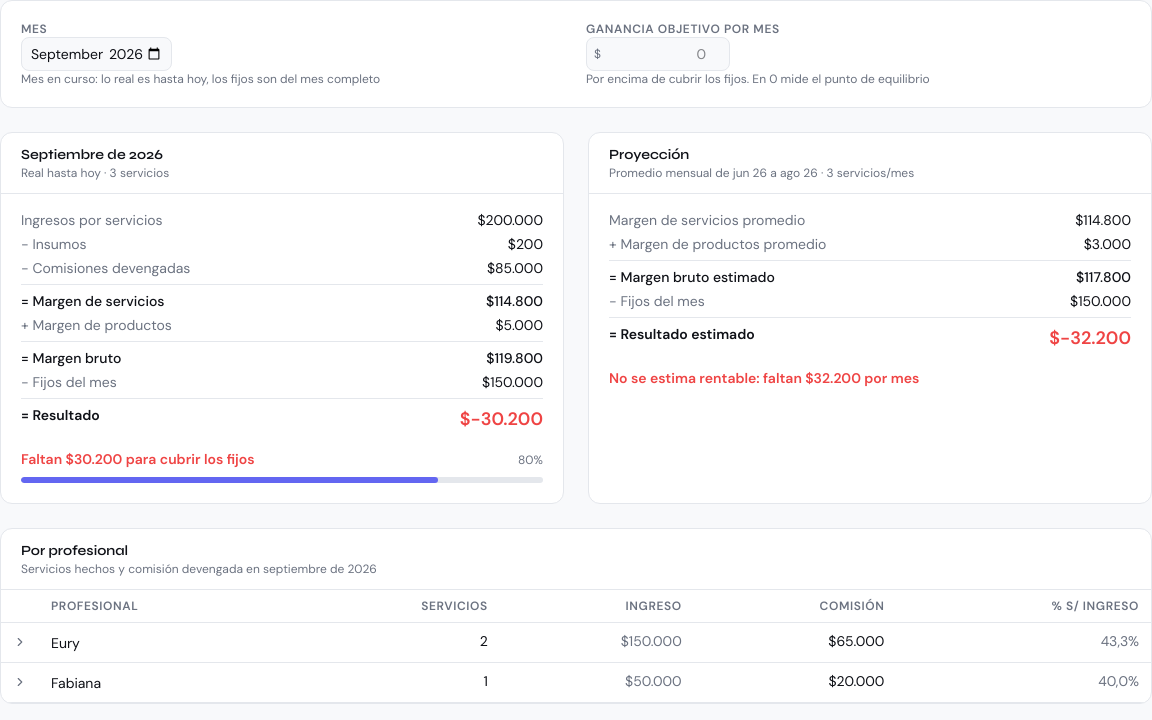
it: ProfitabilityTab › lists services and commission per professional with a per-service breakdown
This screenshot has width=1152, height=720.
Expected: the text "2" is shown, [293, 622, 500, 662]
Expected: the text "$150.000" is shown, [500, 622, 694, 662]
Click the button named "Ver servicios de Eury" at (20, 642), box [9, 631, 31, 653]
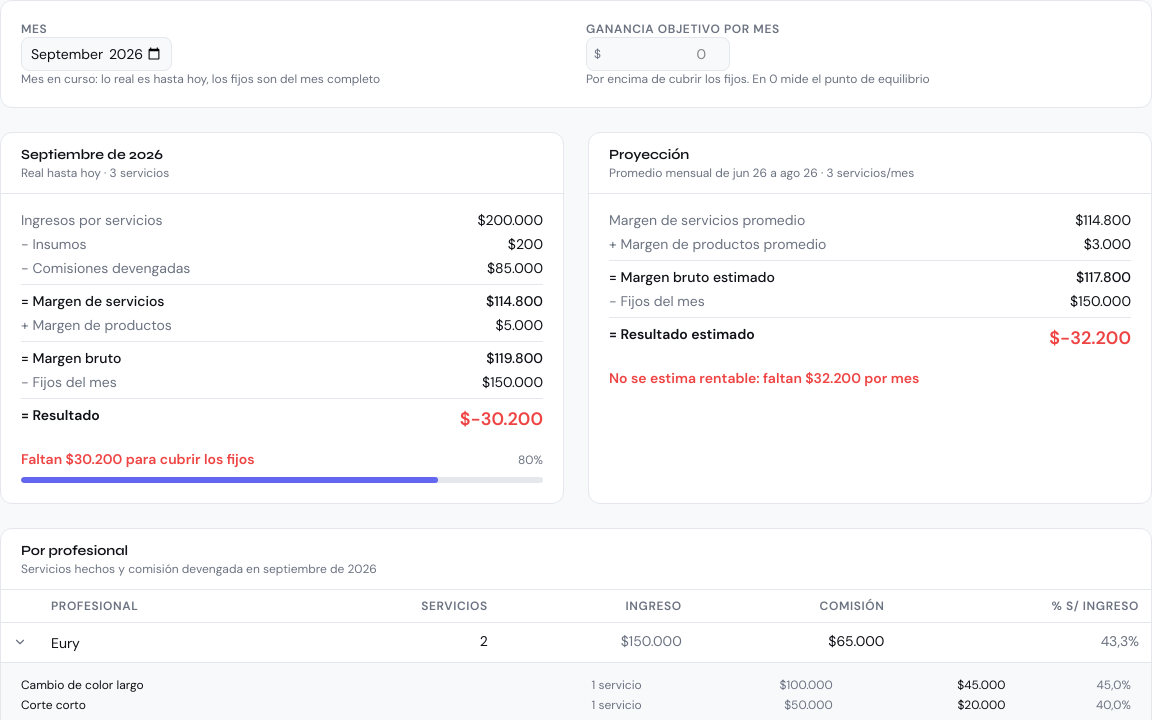
Result: the 1st text "1 servicio" is shown at [461, 675, 642, 695]
Result: the text "$45.000" is shown at [833, 675, 1005, 695]
Result: the text "45,0%" is shown at [1005, 675, 1131, 695]
